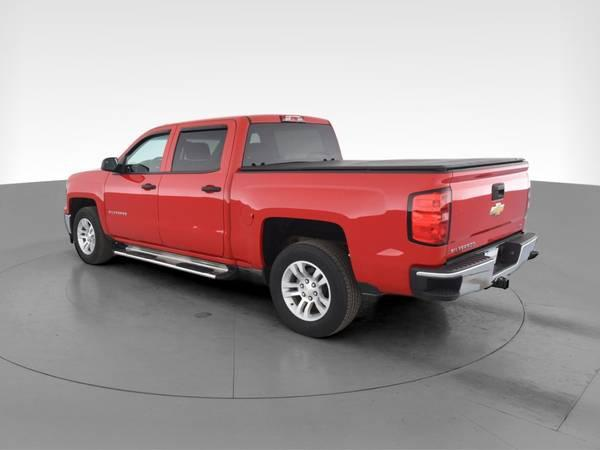Front_Fender: (64, 168, 109, 236)
Front_Left_Door: (105, 168, 162, 248)
Front_Left_Window: (111, 125, 177, 175)
Left_Taillight: (408, 187, 453, 246)
Rear_Bumper: (413, 231, 541, 300)
Rear_Fender: (229, 169, 452, 295)
Rear_Left_Door: (160, 172, 234, 266)
Rear_Left_Window: (164, 119, 242, 173)
Rear_Windshield: (235, 114, 347, 171)
Tailgate: (446, 161, 528, 263)
Wheel: (266, 237, 362, 336), (72, 205, 113, 267)
